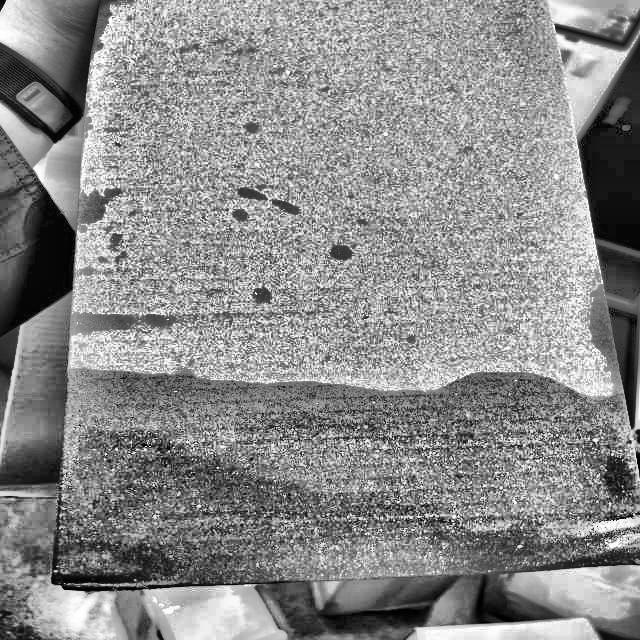box: (48, 0, 640, 606)
wet: (48, 357, 638, 571)
